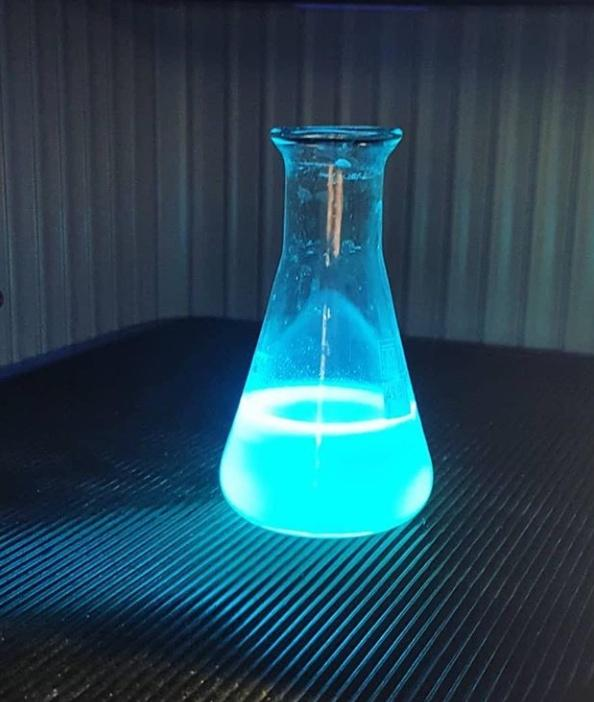Titrarion: (213, 108, 439, 529)
